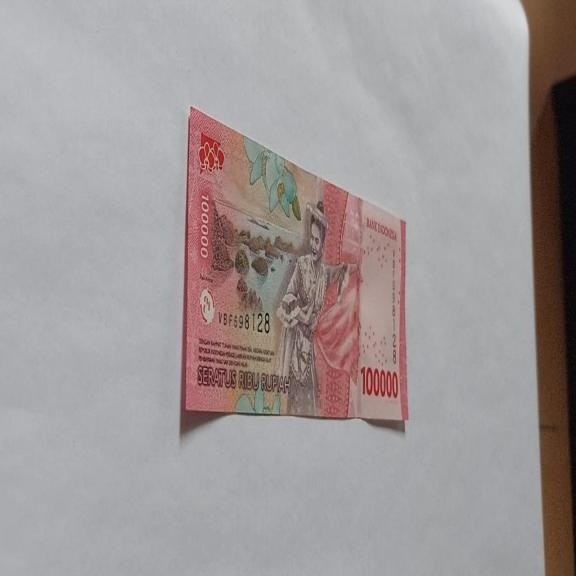Kertas: (181, 104, 409, 427)
